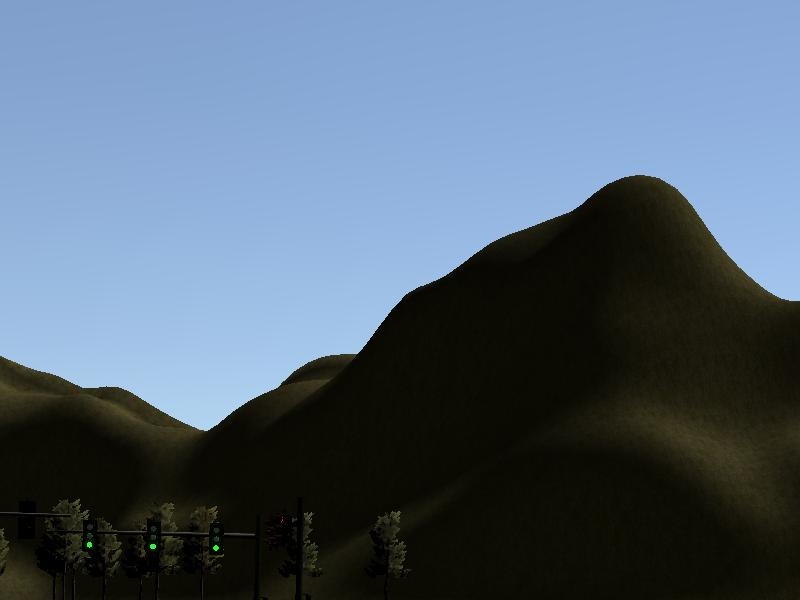GREEN: (141, 517, 163, 554), (80, 516, 100, 553), (207, 519, 223, 557)
